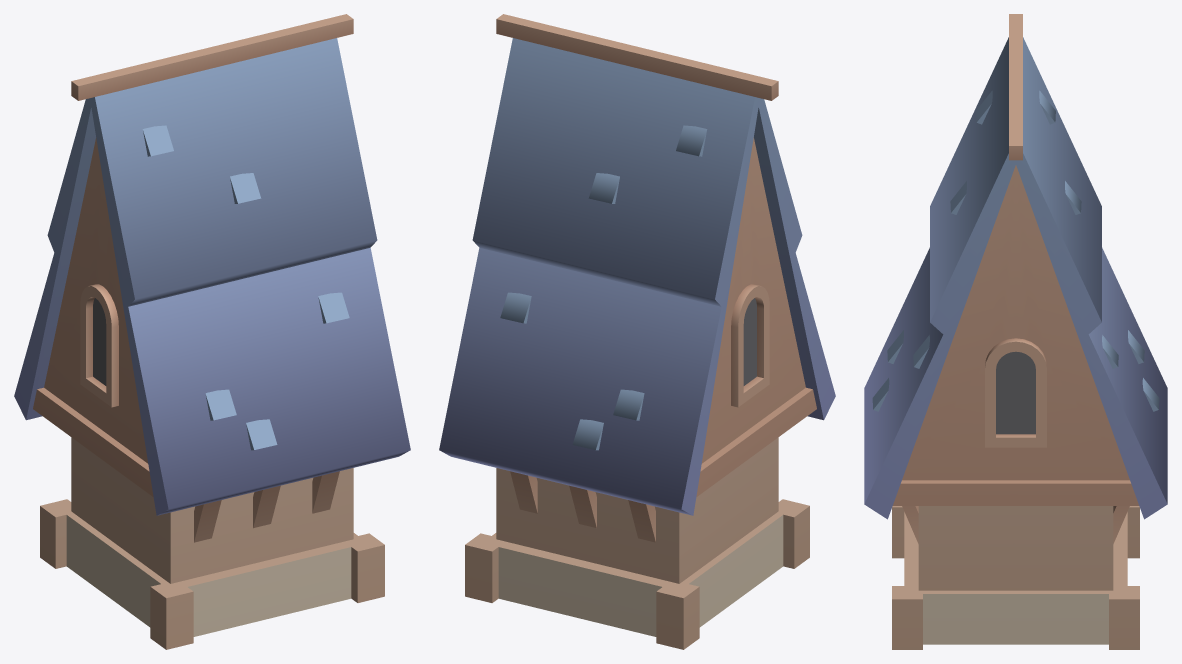
Rendered from tower-slant-roof.glb.
3 renders of one model, left to right at view 1: azimuth 30°, elevation 25°; view 2: azimuth 150°, elevation 25°; view 3: azimuth 270°, elevation 25°, orthographic.
Visible parts, largest first — view 1: tower-slant-roof; view 2: tower-slant-roof; view 3: tower-slant-roof.
Part boxes in pixels (x1,y1,x2,y2): tower-slant-roof: (14, 14, 410, 649); tower-slant-roof: (439, 14, 835, 649); tower-slant-roof: (864, 14, 1167, 649).
Bounding box in the file's own units: 1.17 × 2.14 × 1.14.
